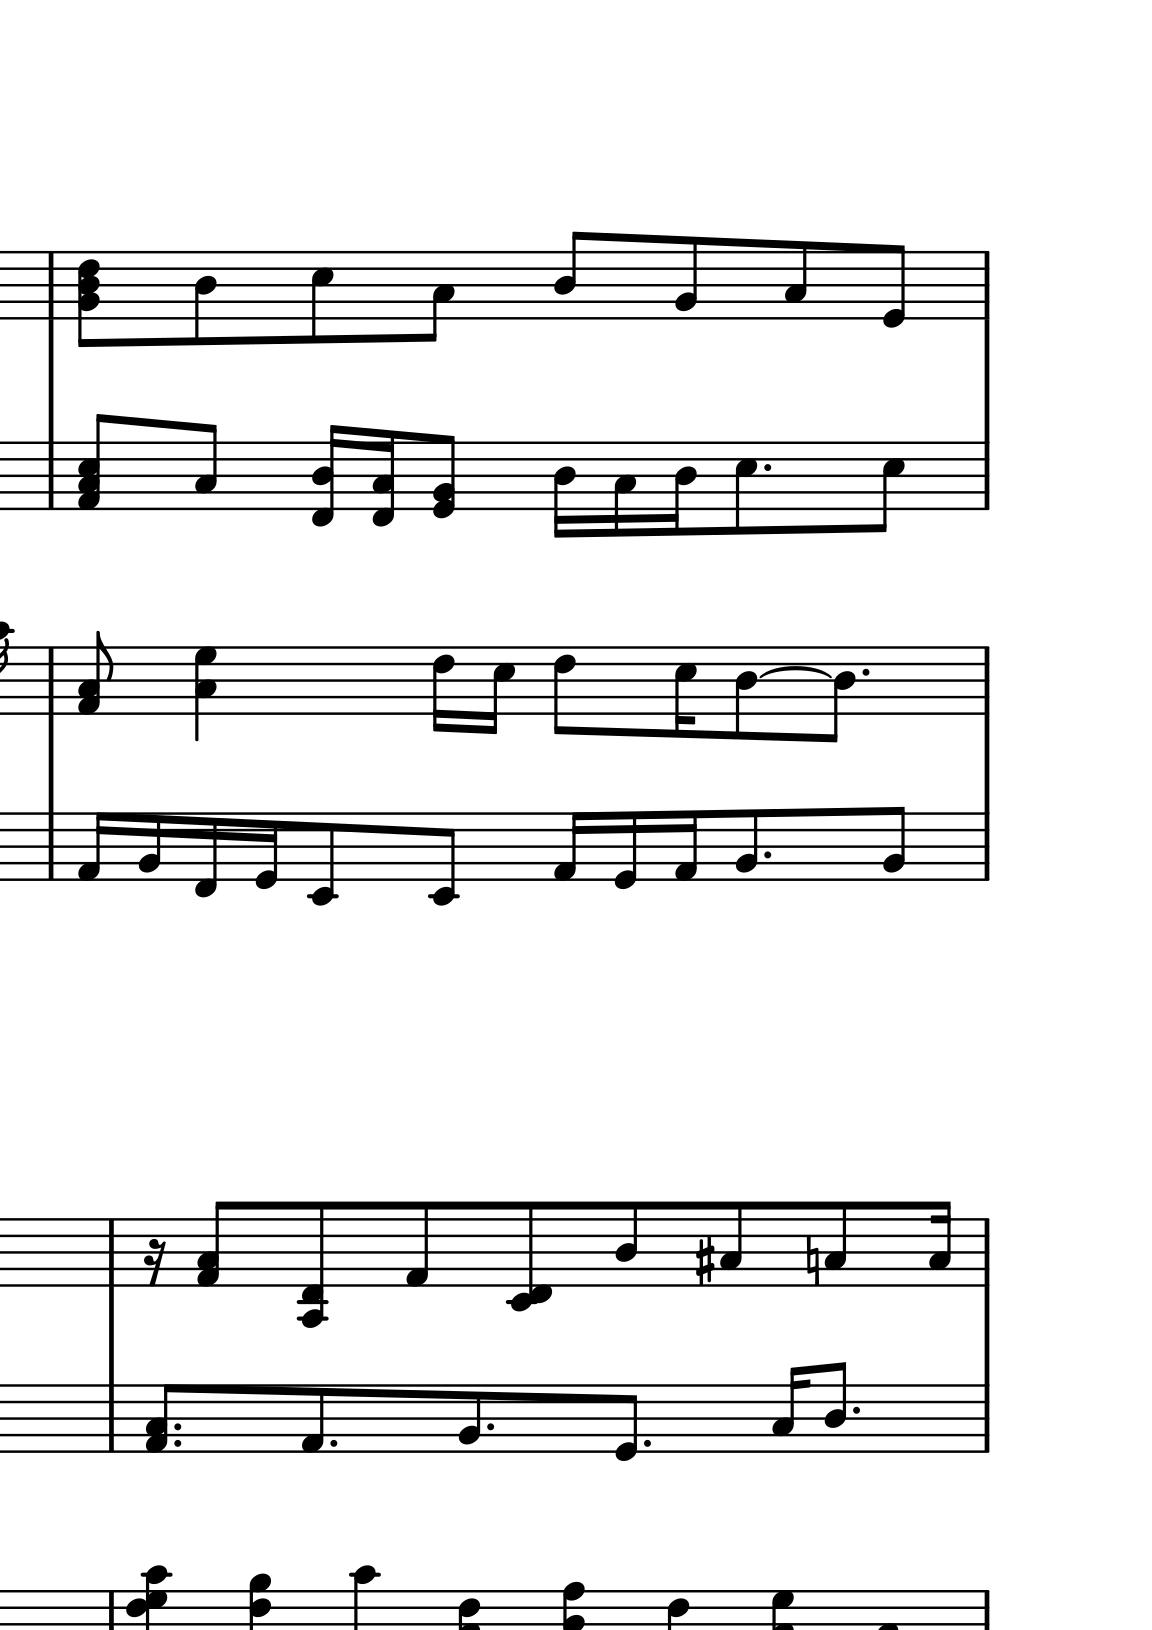16_-1: (193, 808, 221, 898)
16_-1_3: (367, 427, 396, 526)
16_-1_4: (310, 425, 347, 526)
16_0: (613, 810, 641, 891)
16_1: (79, 810, 108, 884), (555, 813, 583, 882)
16_2: (138, 810, 163, 884)
16_3: (772, 1365, 807, 1456), (611, 437, 638, 540), (930, 1198, 953, 1290)
16_4: (551, 441, 577, 541)
16_5: (487, 644, 516, 736), (674, 644, 697, 741)
16_6: (431, 644, 458, 734)
4_3_7: (193, 644, 217, 744)
8_-2: (428, 809, 463, 907), (308, 811, 338, 908)
8_-2_-1: (505, 1200, 554, 1312)
8_-4_-1: (295, 1199, 330, 1327)
8_0: (876, 242, 913, 329), (615, 1382, 643, 1461), (254, 810, 282, 891)
8_0_2: (76, 631, 115, 717), (431, 432, 458, 518)
8_1: (403, 1199, 430, 1286), (299, 1381, 328, 1456), (673, 809, 701, 882)
8_1_3: (194, 1199, 229, 1289), (145, 1382, 176, 1454)
8_2: (876, 804, 908, 885), (674, 234, 702, 323), (737, 808, 763, 884)
8_3: (421, 248, 459, 344), (822, 1199, 852, 1290), (721, 1199, 748, 1290), (784, 239, 813, 319), (194, 422, 219, 510), (459, 1382, 484, 1457)
8_4: (667, 437, 701, 540), (552, 228, 588, 322), (824, 646, 857, 746), (194, 249, 222, 350), (613, 1198, 642, 1290), (733, 646, 759, 744), (827, 1361, 849, 1456)
8_5: (871, 439, 908, 536), (733, 441, 769, 537), (309, 249, 335, 346)
8_6: (552, 642, 581, 739)
8_th: (75, 412, 113, 512), (76, 250, 100, 348)
Natural: (803, 1235, 820, 1290)
Rests16: (138, 1234, 168, 1289)
Sharp: (692, 1235, 714, 1290)
Single_barline: (41, 811, 69, 880), (100, 1218, 127, 1286), (971, 1218, 997, 1289), (41, 647, 67, 715), (972, 1385, 997, 1453), (98, 1385, 123, 1453), (972, 250, 996, 318), (974, 441, 997, 508), (972, 813, 995, 881), (41, 250, 64, 318), (975, 646, 996, 714)
dot: (482, 1419, 497, 1434), (170, 1419, 186, 1433), (171, 1437, 185, 1451), (327, 1437, 339, 1449), (640, 1437, 652, 1449), (852, 1404, 863, 1416)
